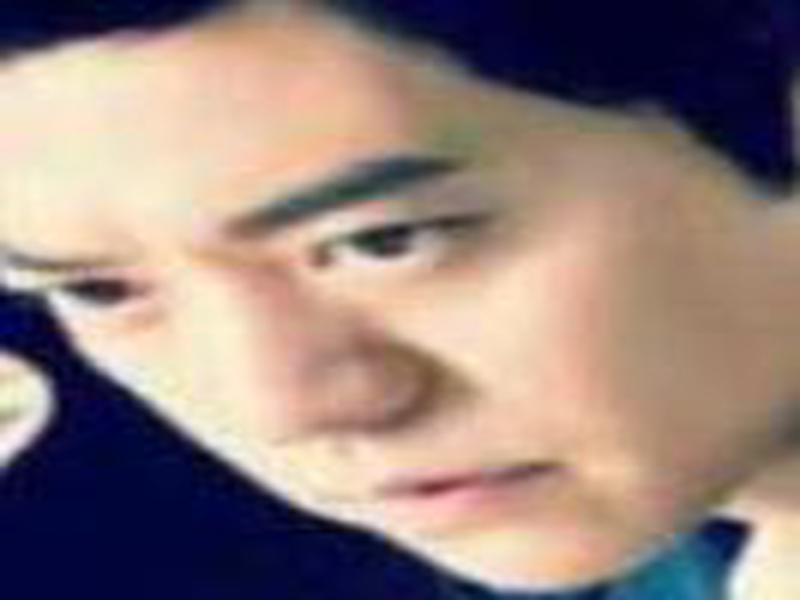without_mask: (1, 38, 793, 584)
